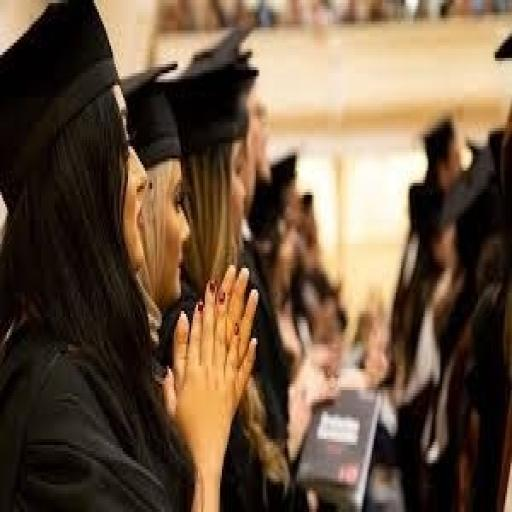clapping: (0, 0, 259, 509)
